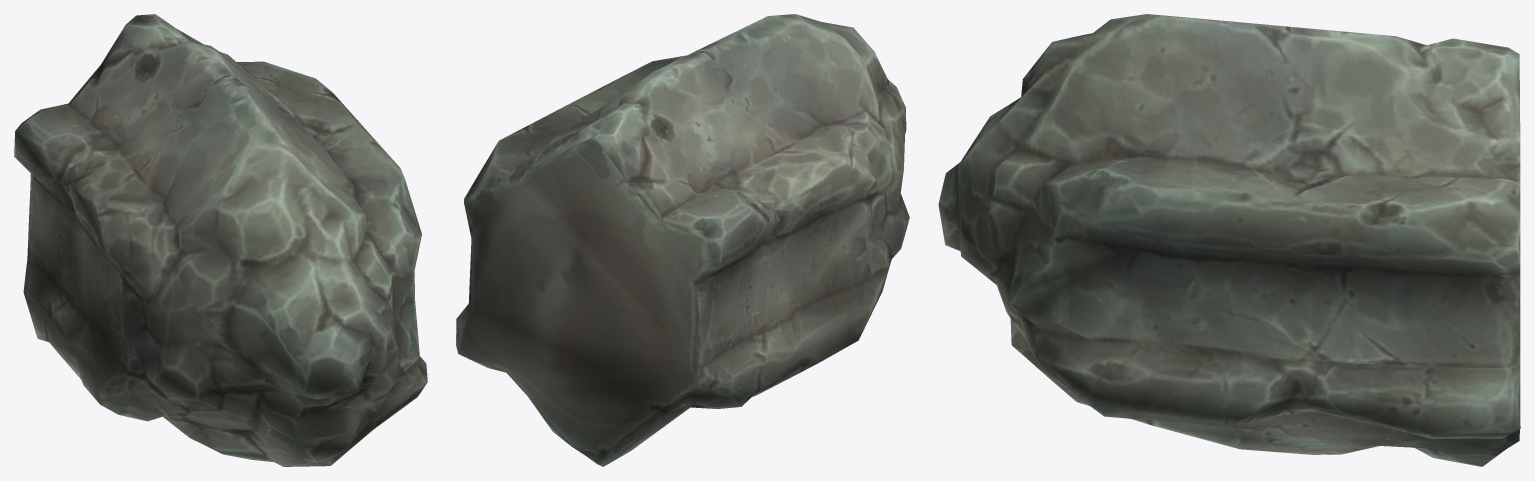
The model's file is Ruins_Pillar_5m_Arch_DMG_A.fbx.
3 views of the same model, side by side, from view 1: azimuth 30°, elevation 25°; view 2: azimuth 150°, elevation 25°; view 3: azimuth 270°, elevation 25° (orthographic). The views are drawn at different scales.
Visible parts, largest first — view 1: Ruins_Pillar_5m_Arch_DMG_A; view 2: Ruins_Pillar_5m_Arch_DMG_A; view 3: Ruins_Pillar_5m_Arch_DMG_A.
Part boxes in pixels (<box>): Ruins_Pillar_5m_Arch_DMG_A: <box>14,14,427,466</box>; Ruins_Pillar_5m_Arch_DMG_A: <box>456,14,909,466</box>; Ruins_Pillar_5m_Arch_DMG_A: <box>938,14,1520,466</box>.
Size of the model in its own units: 333 by 384 by 474.
